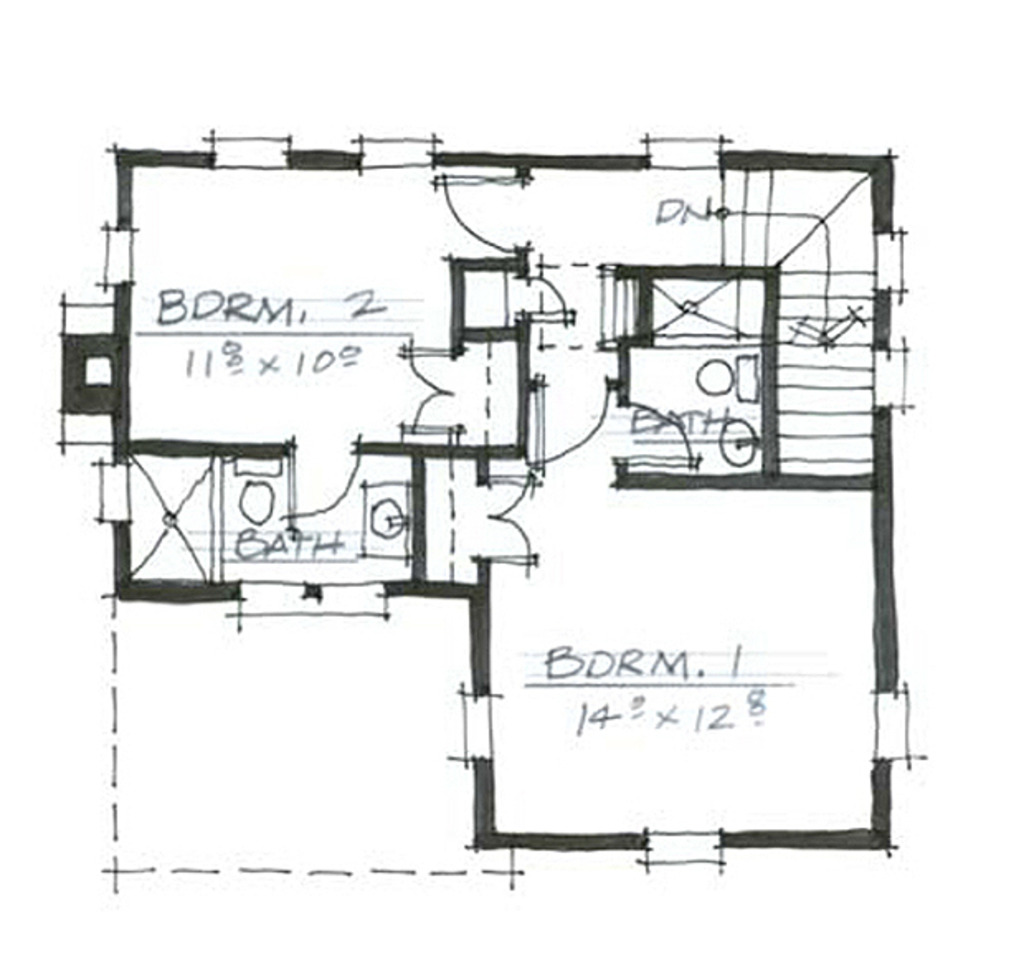door: (523, 376, 608, 467), (447, 179, 525, 255), (403, 350, 462, 442)
